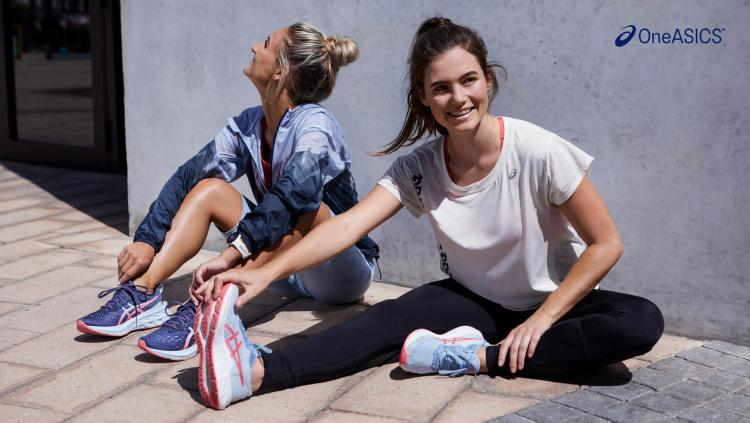asics logo: (221, 320, 250, 394), (111, 290, 162, 332), (425, 329, 486, 351)
